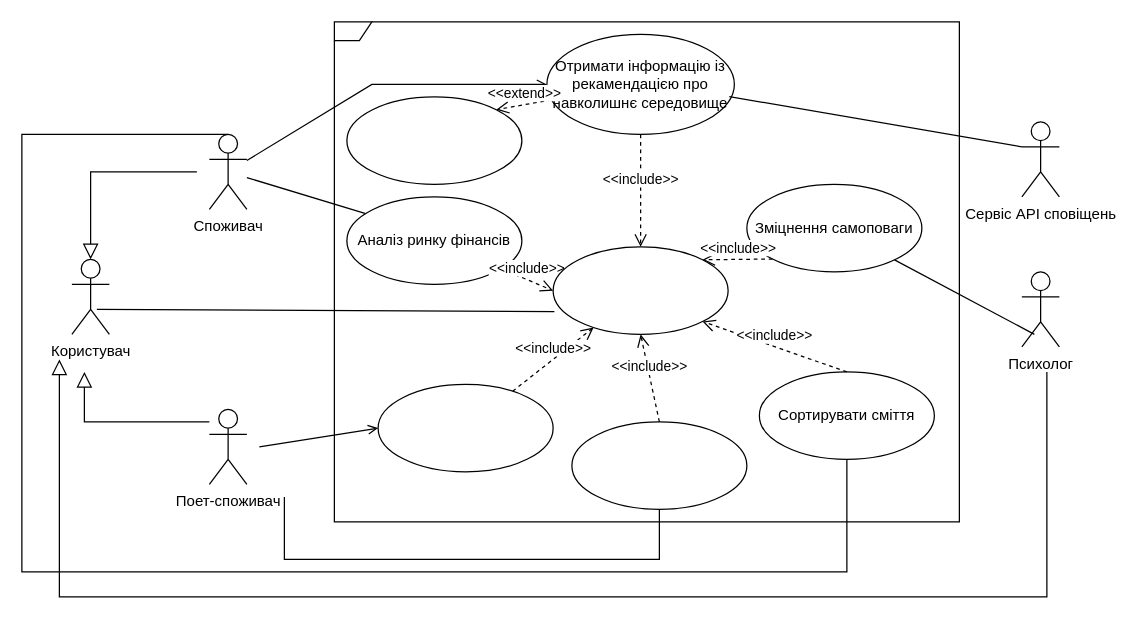
This 1138x634 diagram has some shape labels left out. The shapes that lost their labels are listed below. From the top down, each one's box as (x1, y1, x2, y2) in pixels, then its label:
(346, 96, 522, 184): Переглянути інформацію
(552, 246, 728, 334): Авторизувати користувача
(333, 21, 959, 522): git
(377, 383, 553, 472): Економіти енергію
(571, 421, 747, 509): Брати участь у конкурсах
